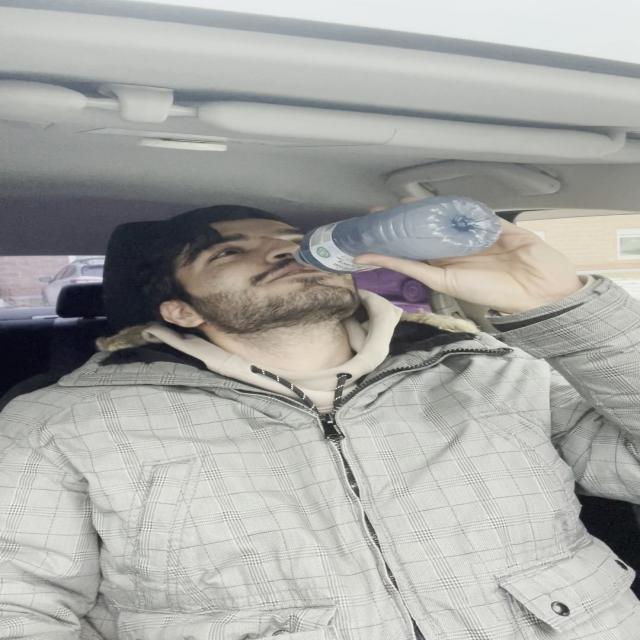no_seatbelt: (279, 206, 539, 272)
